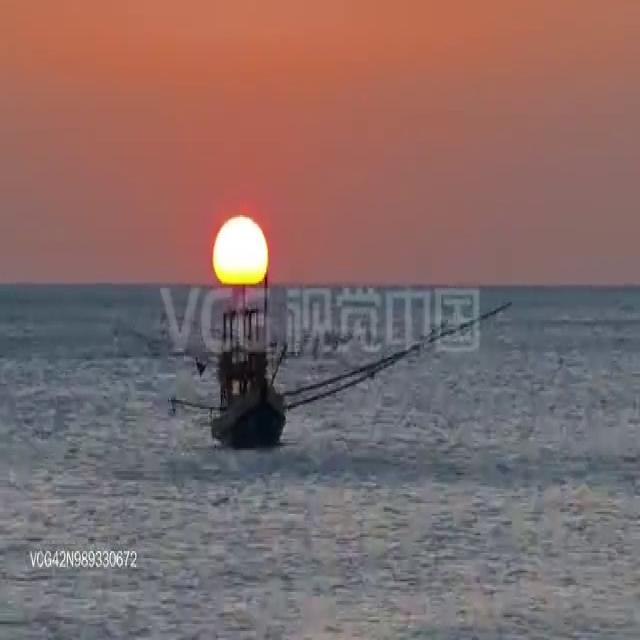houseboat: (211, 278, 286, 440)
